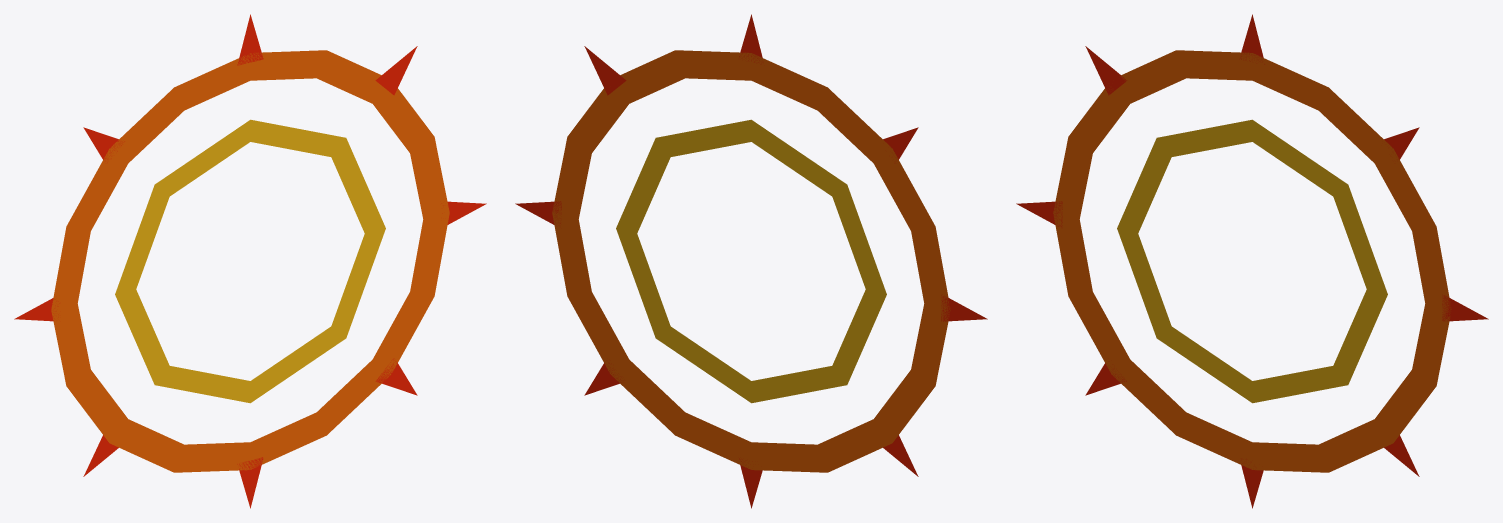
File: solar_halo.obj
3 renders of one model, left to right at view 1: azimuth 30°, elevation 25°; view 2: azimuth 150°, elevation 25°; view 3: azimuth 330°, elevation 25°, orthographic.
Visible parts, largest first — view 1: OuterSolarHalo, InnerRuneRing, EightSolarFlames; view 2: OuterSolarHalo, InnerRuneRing, EightSolarFlames; view 3: OuterSolarHalo, InnerRuneRing, EightSolarFlames.
Part boxes in pixels (x1,y1,x2,y2): OuterSolarHalo: (51,50,449,472); InnerRuneRing: (115,119,385,403); EightSolarFlames: (14,14,486,508); OuterSolarHalo: (552,50,950,472); InnerRuneRing: (616,119,886,403); EightSolarFlames: (515,14,987,508); OuterSolarHalo: (1053,50,1451,472); InnerRuneRing: (1117,119,1387,403); EightSolarFlames: (1016,14,1488,508).
Bounding box in the file's own units: 3.56 × 3.56 × 0.
